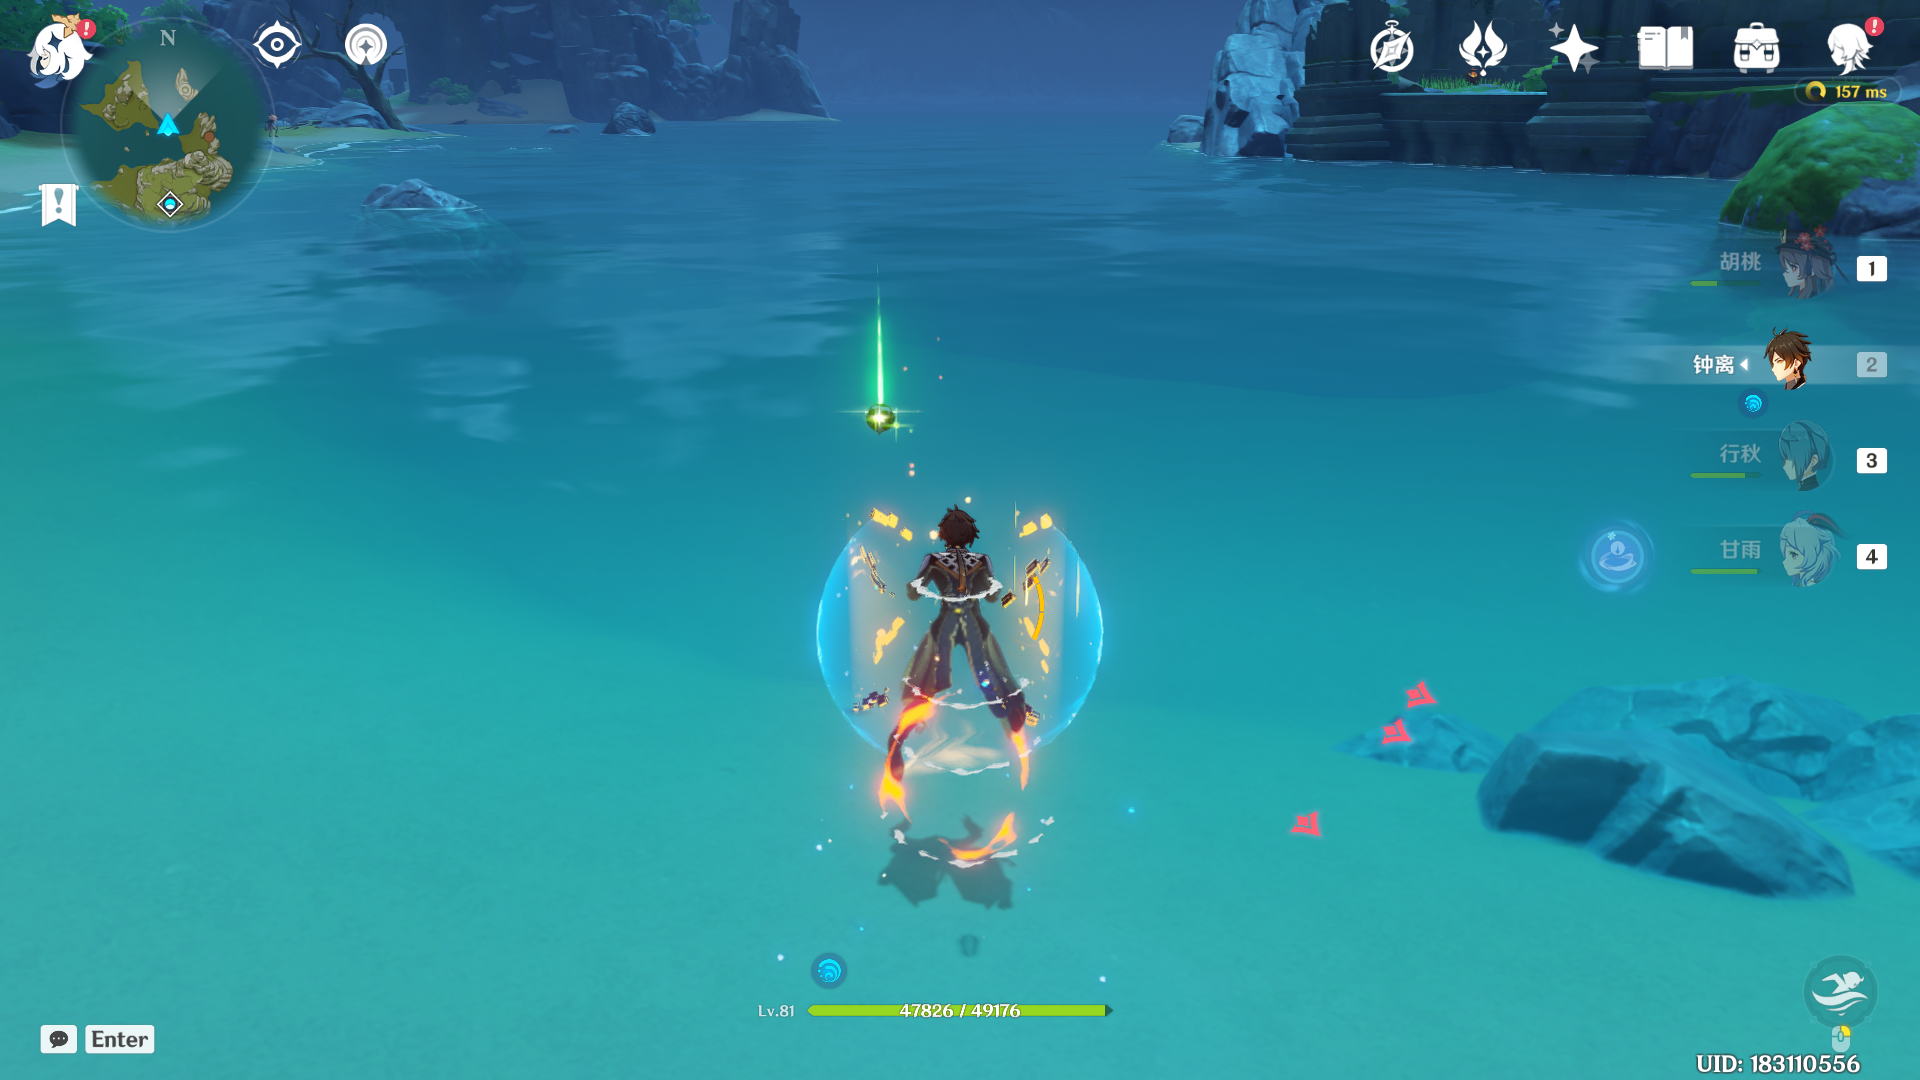character: (862, 495, 1098, 819)
